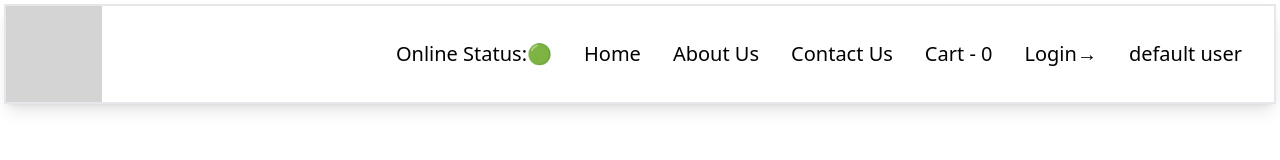
Test: Should change login button to logout on Click
This screenshot has width=1280, height=160.
Click the button "Login→".
click(1061, 54)  # box top-left (1024, 40), bottom-right (1097, 68)
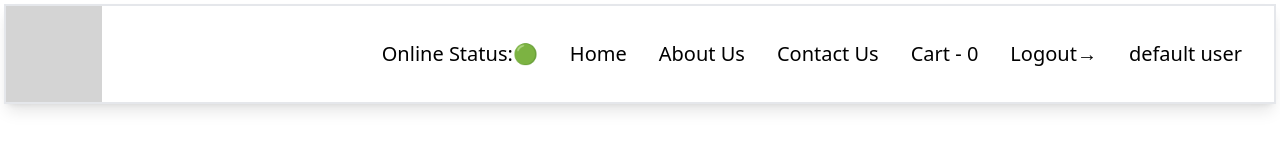
Expected: the button "Logout→" is shown, top-left (1010, 40), bottom-right (1097, 68)
